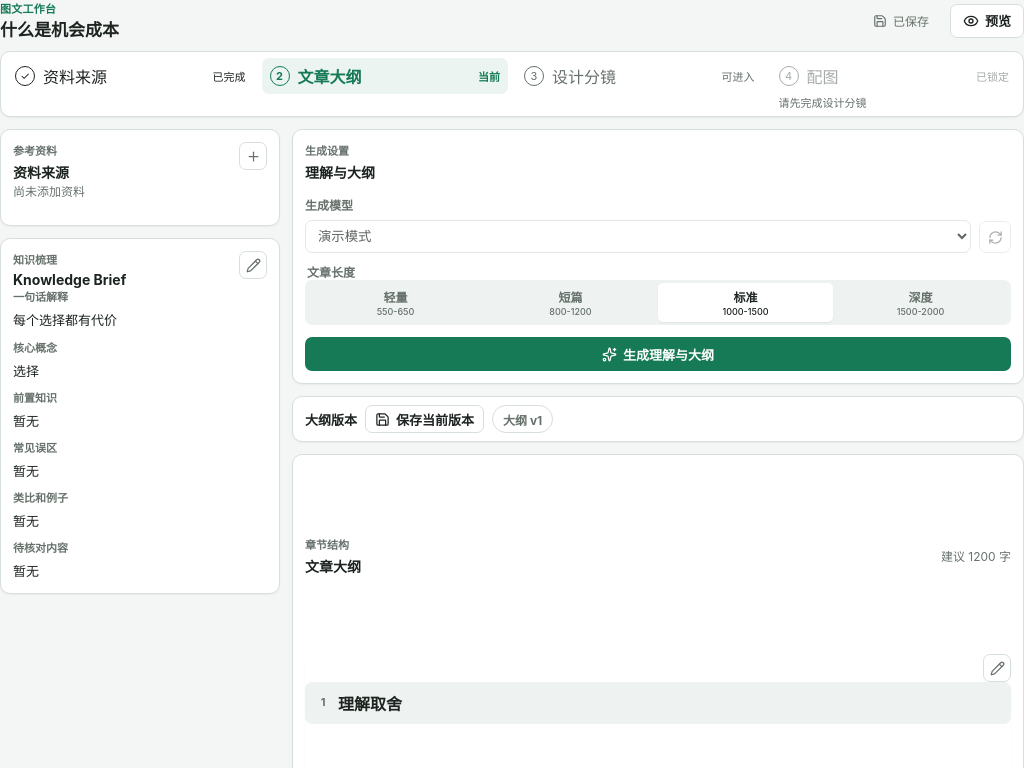
Test: ArticleWorkspace › keeps a saved outline review after leaving the outline step and coming back
Click the button "✓ 资料来源 已完成".
click(130, 76)  # box [7,58,254,94]
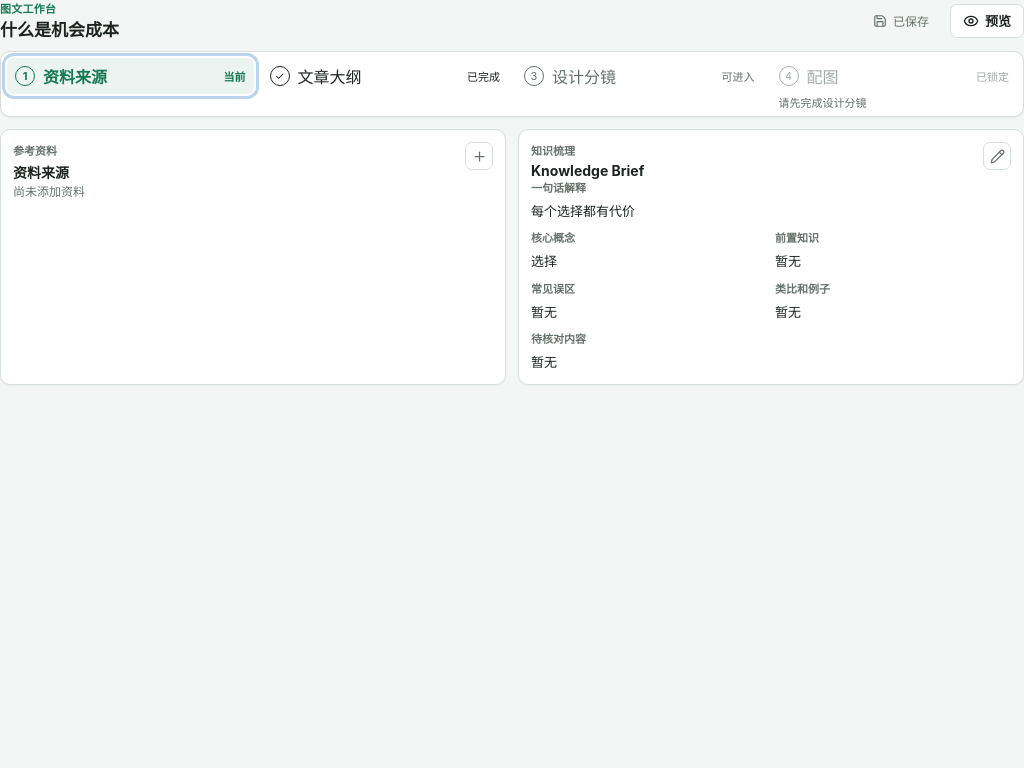
Click the button "✓ 文章大纲 已完成".
click(385, 76)  # box [262,58,508,94]
(page scrolled)
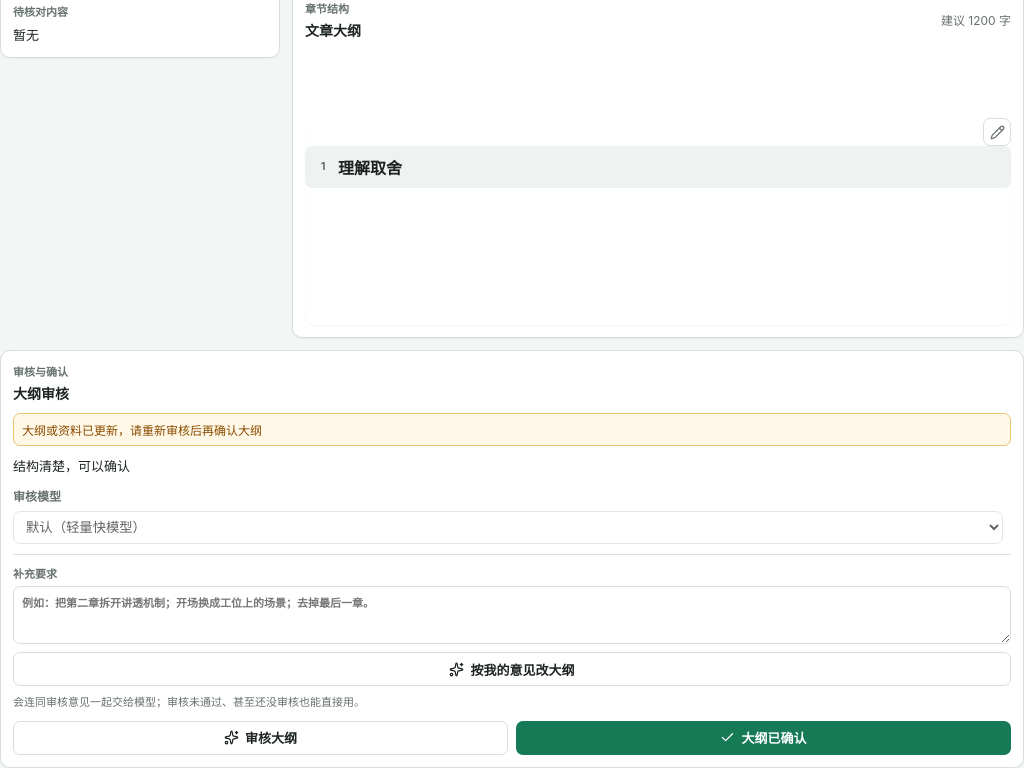
Expected: the text "结构清楚，可以确认" is shown, [13,458,130,474]
